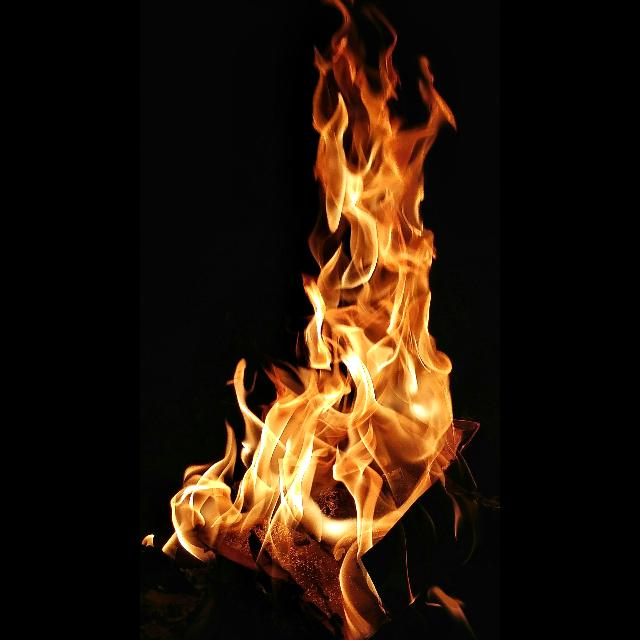fire: (165, 0, 462, 640)
